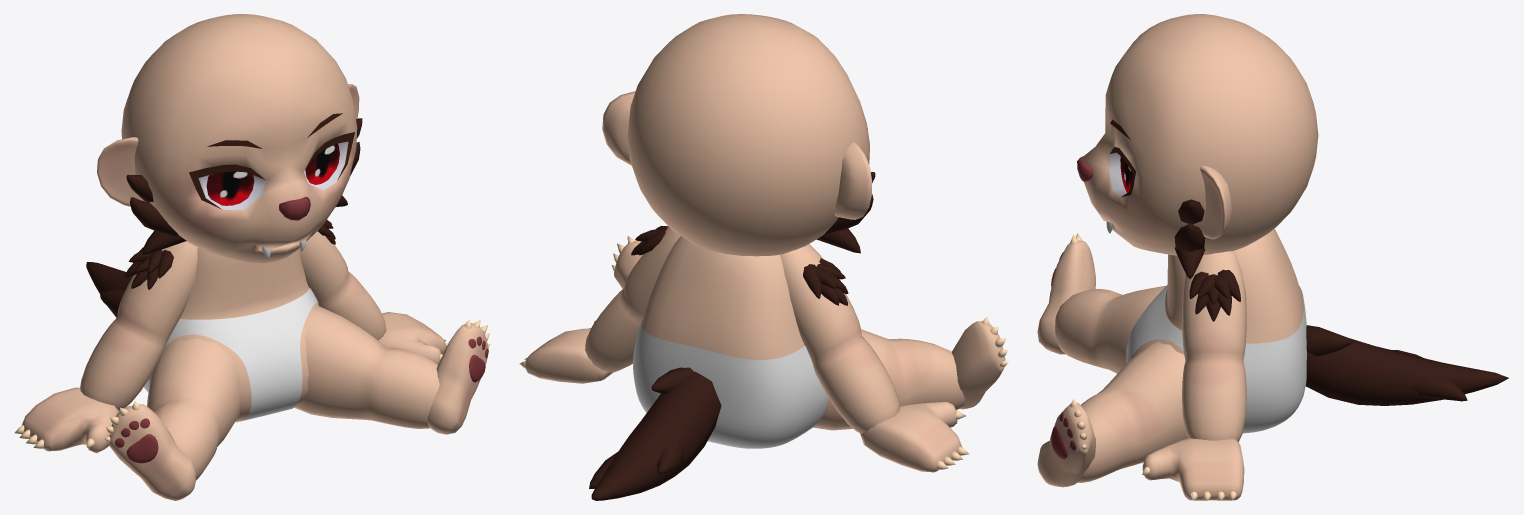
File: MiddleBaby.fbx
The picture shows the model from 3 angles, left to right: view 1: azimuth 30°, elevation 25°; view 2: azimuth 150°, elevation 25°; view 3: azimuth 270°, elevation 25°; orthographic projection. The views are drawn at different scales.
Parts seen in each view (by area): view 1: Baby; view 2: Baby; view 3: Baby.
Boxes of the visible parts, x1,y1,x2,y2 form: Baby: (14, 14, 490, 500); Baby: (519, 14, 1008, 500); Baby: (1037, 14, 1508, 500).
Bounding box in the file's own units: 388 × 402 × 356.
Materials: 4 (3 with a texture image).
